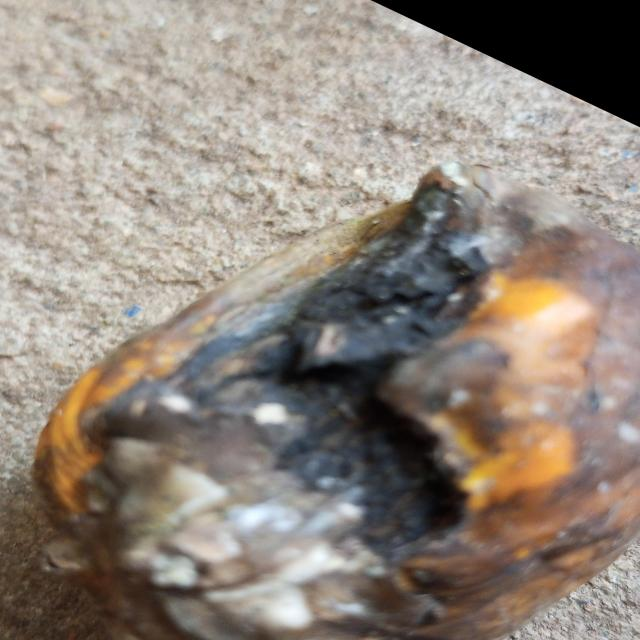damaged: (30, 163, 640, 640)
